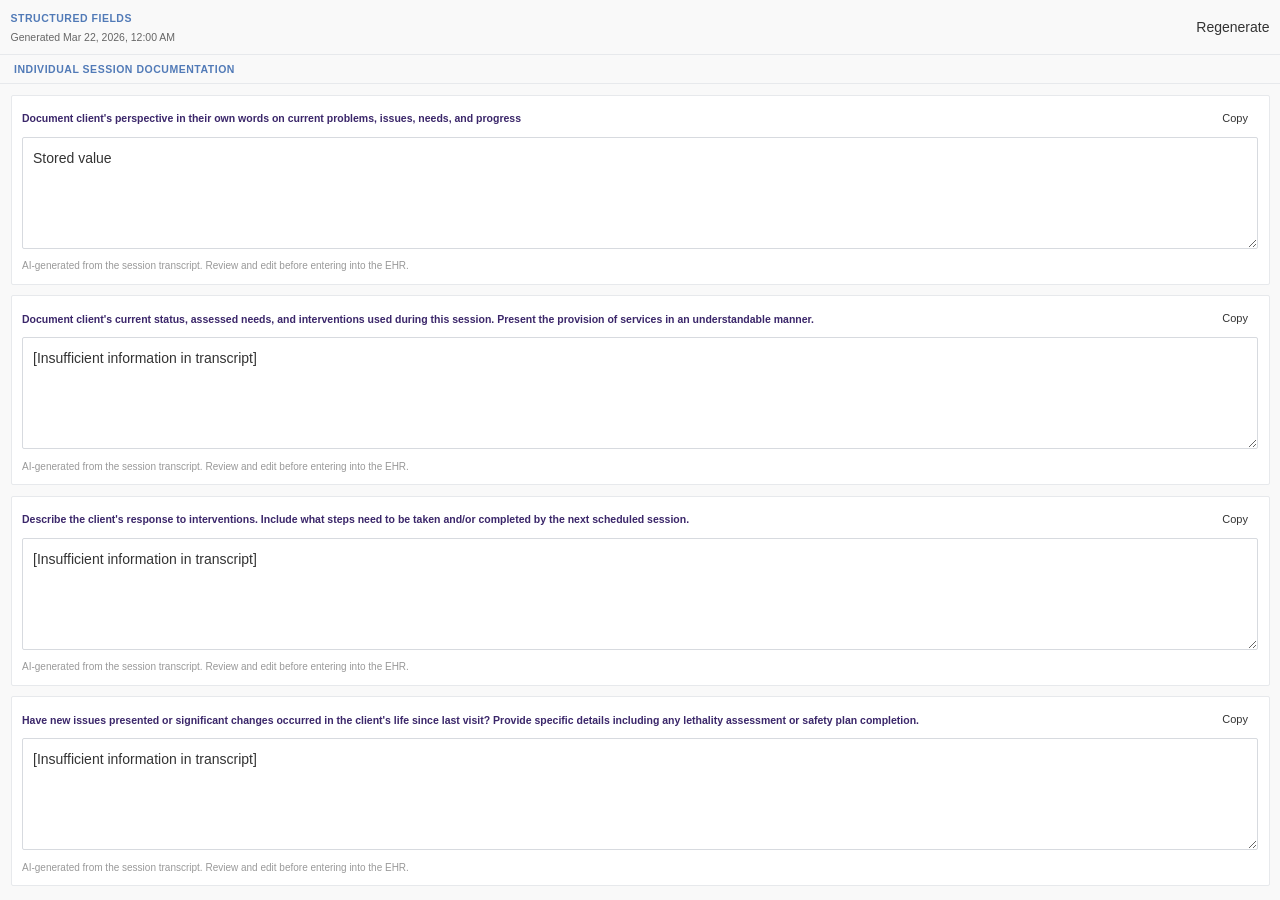
CareLogicFormsPanel › failed regeneration preserves existing fields and shows the error message
Click the button "Regenerate".
click(1233, 27)  # box [1196,17,1270,38]
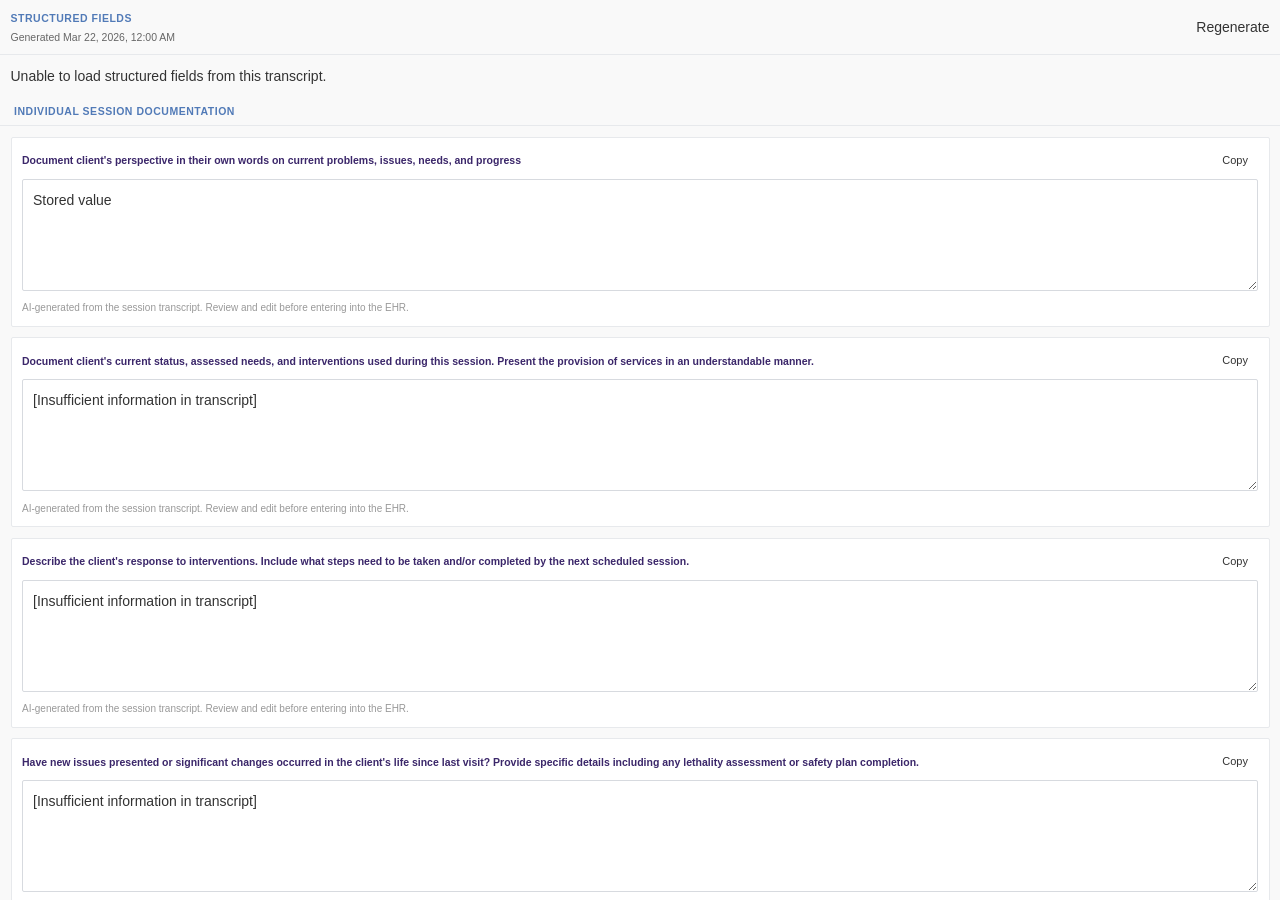
Now the text "Unable to load structured fields from this transcript." is shown, box [10,68,326,84]
